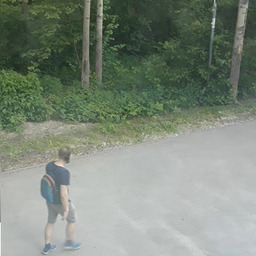person: (41, 146, 82, 254)
